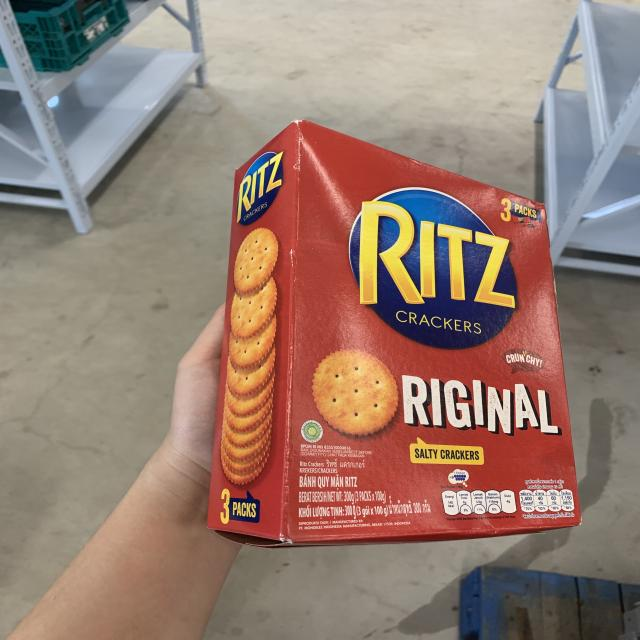object_name: (231, 131, 577, 531)
